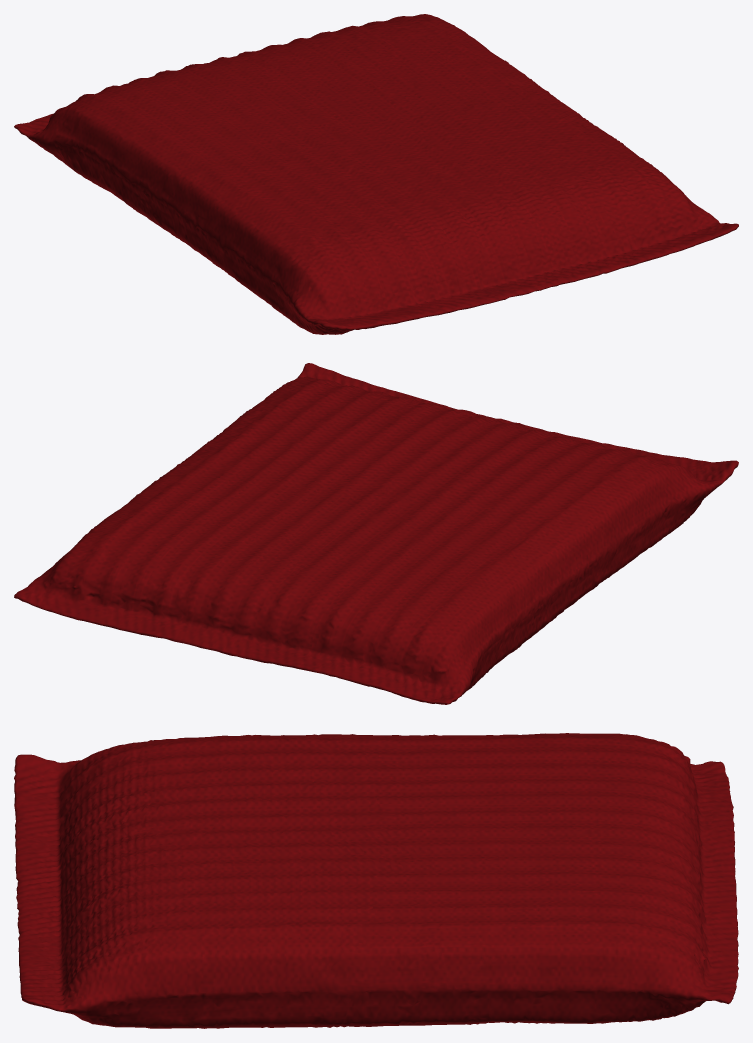
The model's file is Pepprig70567650.glb.
3 renders of one model, top to bottom at view 1: azimuth 30°, elevation 25°; view 2: azimuth 150°, elevation 25°; view 3: azimuth 270°, elevation 25°, orthographic. The views are drawn at different scales.
Parts seen in each view (by area): view 1: ASY_LPT02_70567650_S01_NV01; view 2: ASY_LPT02_70567650_S01_NV01; view 3: ASY_LPT02_70567650_S01_NV01.
Part boxes in pixels (bbox=[...]): ASY_LPT02_70567650_S01_NV01: bbox=[14, 14, 738, 334]; ASY_LPT02_70567650_S01_NV01: bbox=[14, 363, 738, 704]; ASY_LPT02_70567650_S01_NV01: bbox=[14, 733, 738, 1028].
Size of the model in its own units: 0.0984 by 0.0182 by 0.1201.
1 material, 1 textured.
